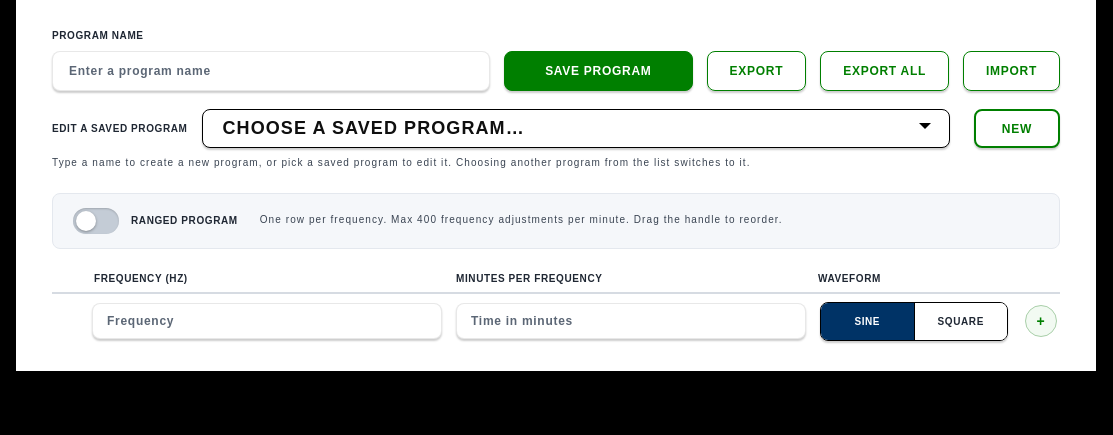
Test: ProgramEditor › allows deleting frequency rows in non-range mode
Add a second row first
Click the button named "add frequency": (1041,321) [1025,305,1057,337]
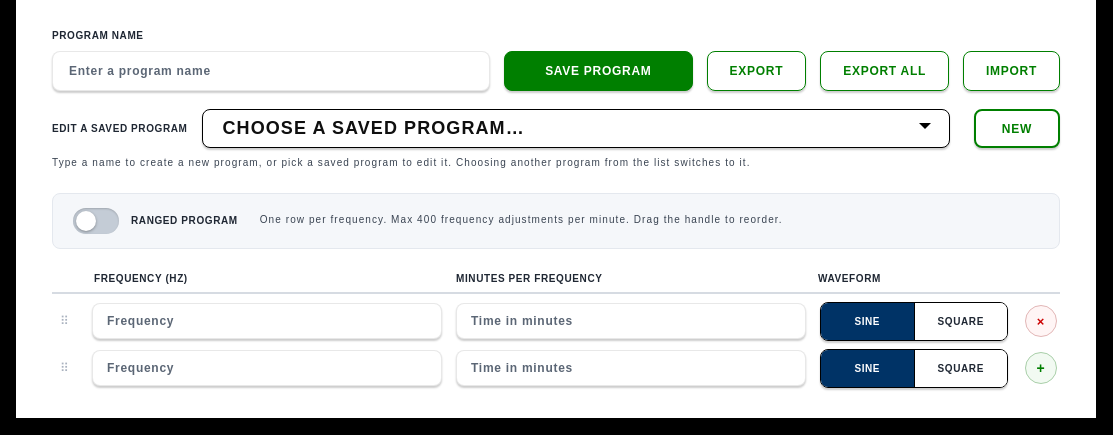
Check: the number of number fields with placeholder "Frequency" is 2, box [92,303,442,339]; [92,350,442,386]
Delete the second row
Click the button named "remove frequency": (1041,321) [1025,305,1057,337]
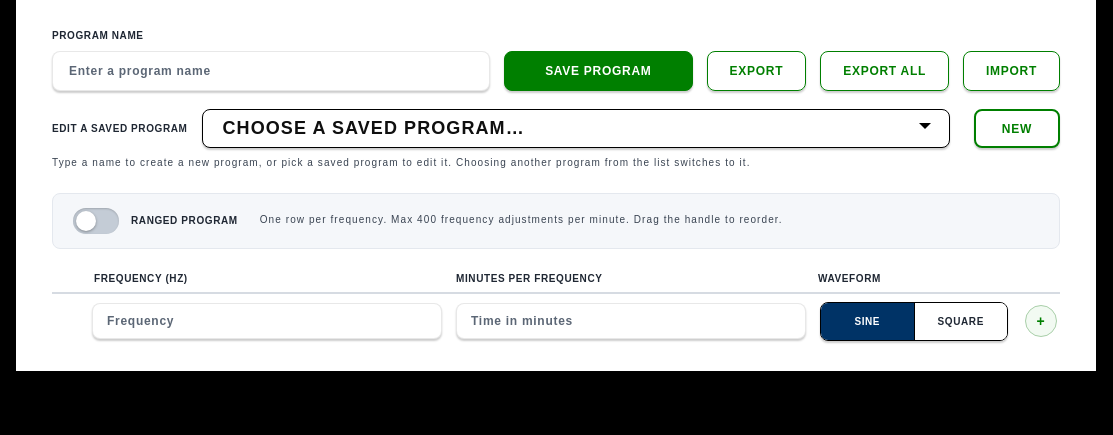
Check: the number of number fields with placeholder "Frequency" is 1, box [92,303,442,339]
